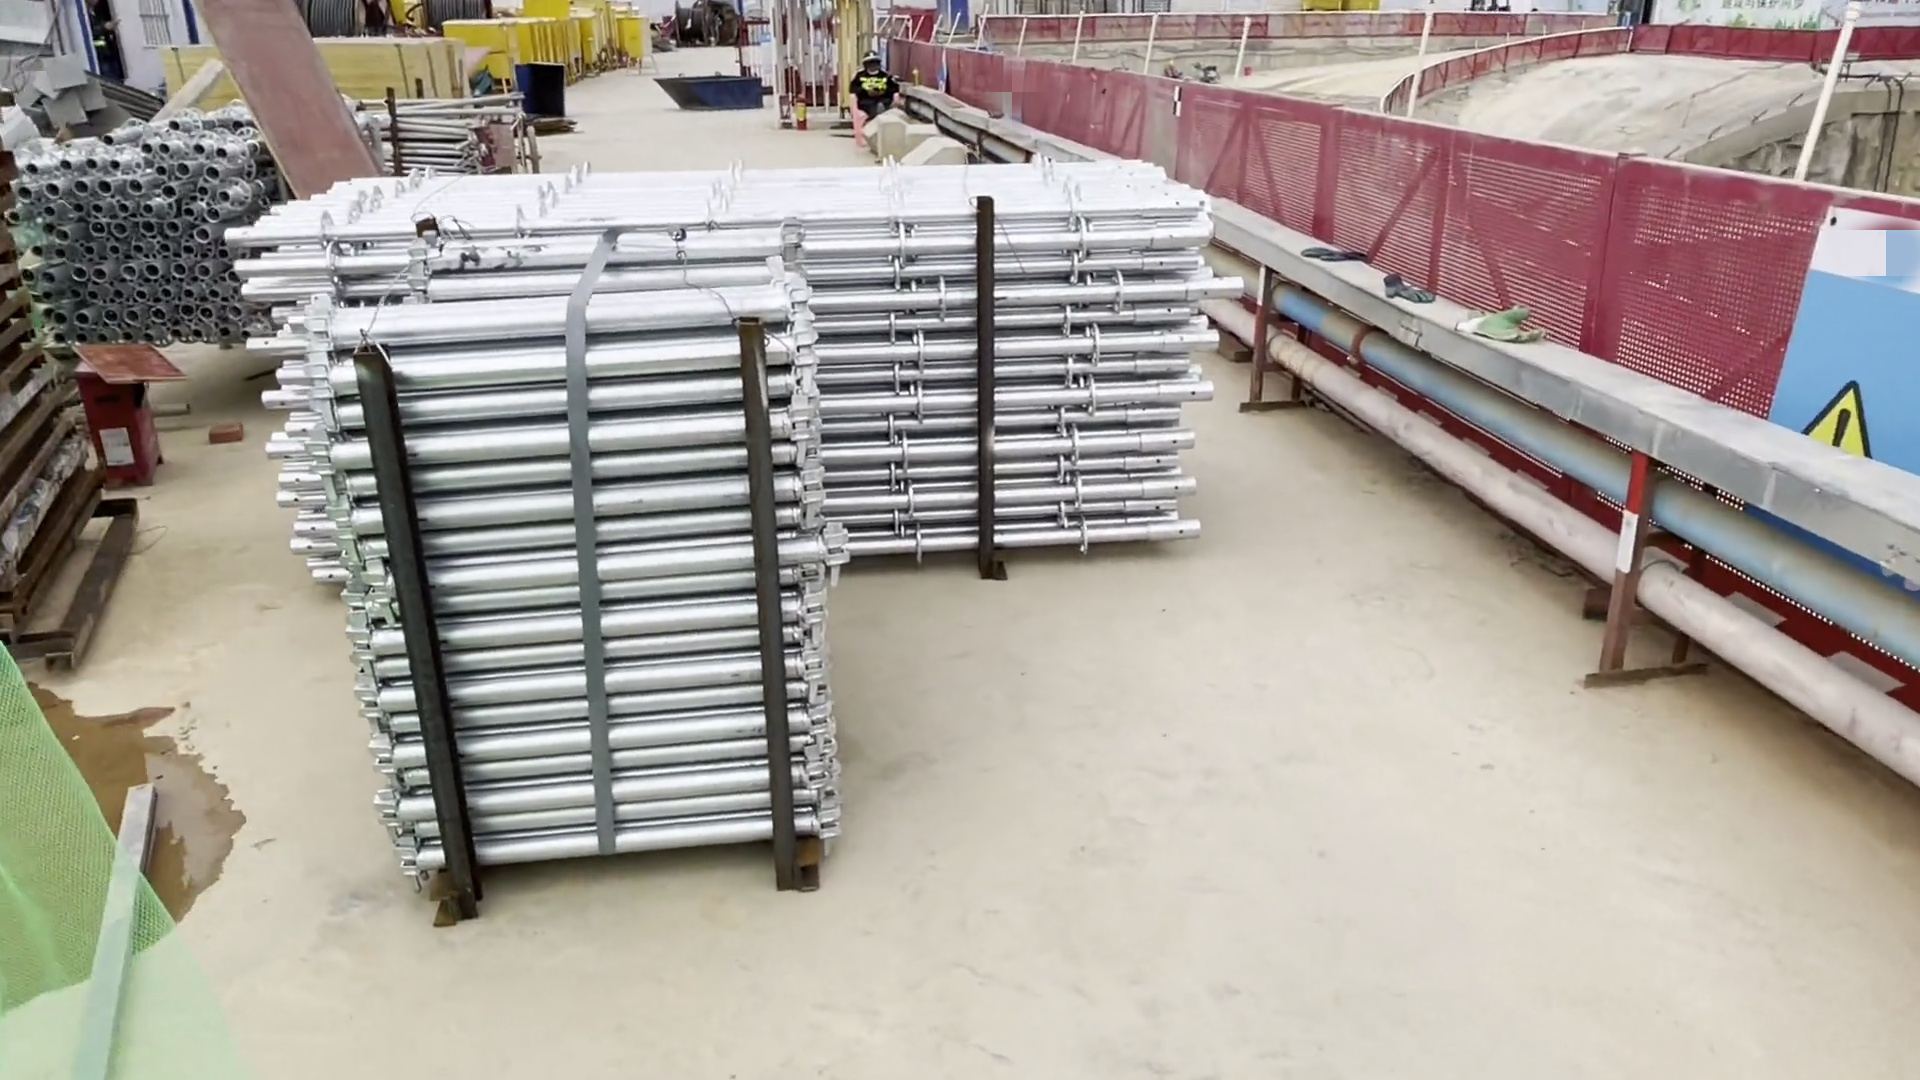ebox: (440, 18, 512, 87), (620, 15, 659, 76)
fence: (1329, 111, 1604, 397), (1183, 90, 1331, 235), (1018, 65, 1150, 160)
scaffold: (276, 124, 1211, 592), (378, 276, 824, 922), (32, 115, 262, 352)
